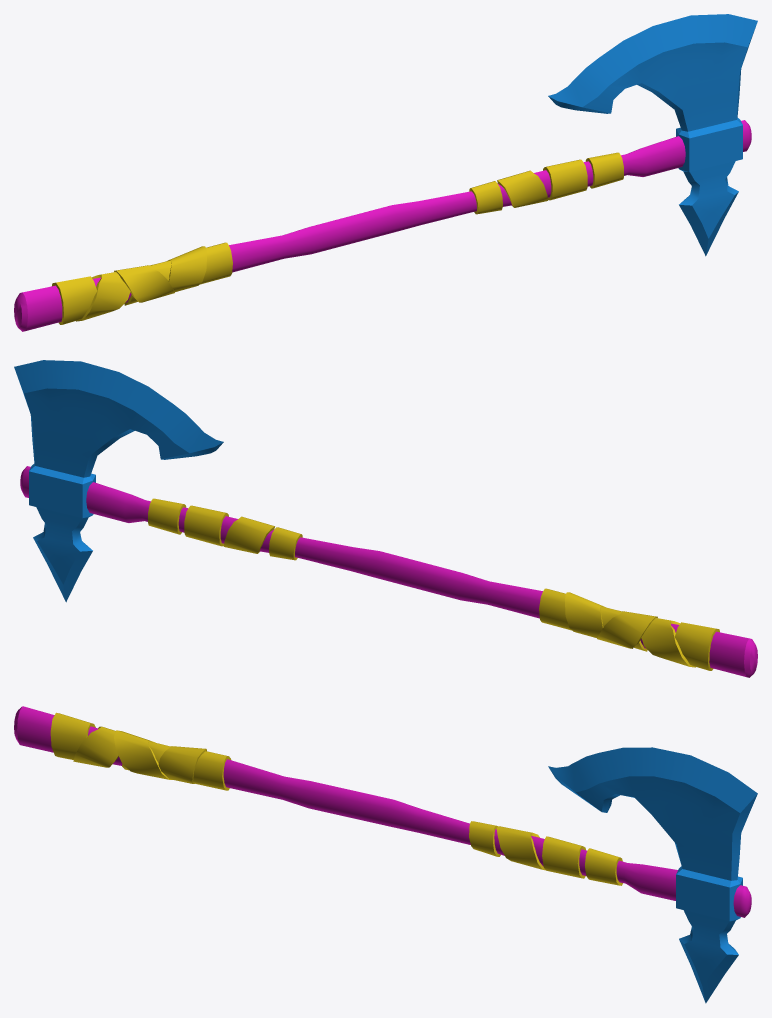
The model's file is ZelkovaWorkshopAxe.fbx.
3 renders of one model, top to bottom at view 1: azimuth 30°, elevation 25°; view 2: azimuth 150°, elevation 25°; view 3: azimuth 330°, elevation 25°, orthographic.
Parts seen in each view (by area): view 1: Zelkova Workshop - Axe; view 2: Zelkova Workshop - Axe; view 3: Zelkova Workshop - Axe.
Part boxes in pixels (left/top/right/bottom): Zelkova Workshop - Axe: left=14, top=14, right=757, bottom=331; Zelkova Workshop - Axe: left=14, top=360, right=757, bottom=677; Zelkova Workshop - Axe: left=14, top=706, right=757, bottom=1003.
Bounding box in the file's own units: 119 × 37.46 × 4.12.
